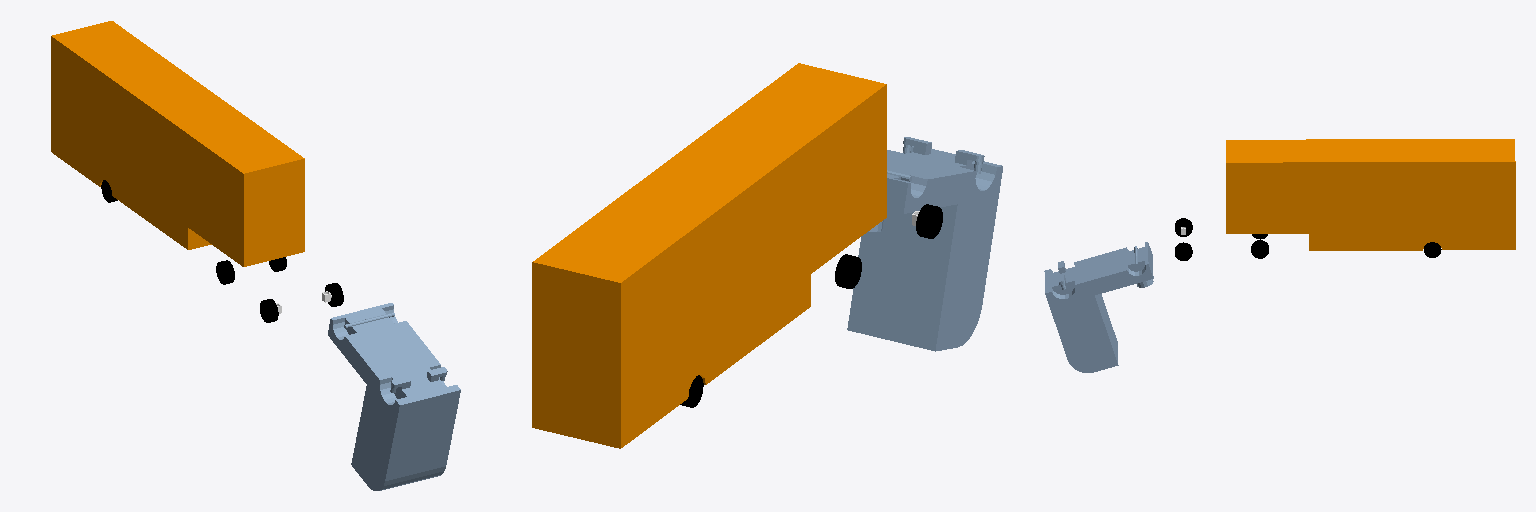
URDF robot description (TT):
<?xml version="1.0" encoding="utf-8"?>
<!-- This URDF was automatically created by SolidWorks to URDF Exporter! Originally created by [author] ([email redacted]) 
     Commit Version: 1.6.0-4-g7f85cfe  Build Version: 1.6.7995.38578
     For more information, please see http://wiki.ros.org/sw_urdf_exporter -->
<robot
  name="TT">
      <!-- Colors --> 
  <material name="black"> 
      <color rgba="0 0 0 1"/>
  </material>
  <material name="blue"> 
      <color rgba="0.6 0.7 0.8 0.9"/>
  </material>
  <material name="yellow"> 
      <color rgba="1 0.6 0 0.9"/>
  </material>
  <link
    name="base_link">
    <inertial>
      <origin
        xyz="0 0 -0.31232"
        rpy="0 0 0" />
      <mass
        value="6000" />
      <inertia
        ixx="103290"
        ixy="-5.3338E-12"
        ixz="1.5499E-13"
        iyy="74340"
        iyz="21268"
        izz="61126" />
    </inertial>
    <visual>
      <origin
        xyz="0 0 0"
        rpy="0 0 0" />
      <geometry>
        <mesh
          filename="package://TT/meshes/base_link.STL" />
      </geometry>
      <material
        name="blue">
        <!--color
          rgba=" 39 172 245 0.6" /-->
      </material>
    </visual>
    <collision>
      <origin
        xyz="0 0 0"
        rpy="0 0 0" />
      <geometry>
        <mesh
          filename="package://TT/meshes/base_link.STL" />
      </geometry>
    </collision>
  </link>
  <link
    name="Left_Hinge">
    <inertial>
      <origin
        xyz="0.044267 -0.15 0"
        rpy="0 0 0" />
      <mass
        value="11.976" />
      <inertia
        ixx="0.15149"
        ixy="4.7995E-18"
        ixz="-2.2287E-18"
        iyy="0.23945"
        iyz="-1.7421E-34"
        izz="0.23529" />
    </inertial>
    <visual>
      <origin
        xyz="0 0 0"
        rpy="0 0 0" />
      <geometry>
        <mesh
          filename="package://TT/meshes/Left_Hinge.STL" />
      </geometry>
      <material
        name="">
        <color
          rgba="1 1 1 1" />
      </material>
    </visual>
    <collision>
      <origin
        xyz="0 0 0"
        rpy="0 0 0" />
      <geometry>
        <mesh
          filename="package://TT/meshes/Left_Hinge.STL" />
      </geometry>
    </collision>
  </link>
  <joint
    name="base_to_left_hinge"
    type="revolute">
    <origin
      xyz="-1.4156 -5.504 -2.0935"
      rpy="1.5708 0 0" />
    <parent
      link="base_link" />
    <child
      link="Left_Hinge" />
    <axis
      xyz="0 1 0" />
    <limit
      lower="-0.55"
      upper="0.55"
      effort="0"
      velocity="0.713" />
  </joint>
  <link
    name="left_front_tire">
    <inertial>
      <origin
        xyz="0.15107 8.8818E-16 -1.7764E-15"
        rpy="0 0 0" />
      <mass
        value="16" />
      <inertia
        ixx="14.659"
        ixy="6.5806E-16"
        ixz="-9.8805E-16"
        iyy="8.5568"
        iyz="-4.4409E-16"
        izz="8.5568" />
    </inertial>
    <visual>
      <origin
        xyz="0 0 0"
        rpy="0 0 0" />
      <geometry>
        <mesh
          filename="package://TT/meshes/left_front_tire.STL" />
      </geometry>
      <material
        name="">
        <color
          rgba="0 0 0 1" />
      </material>
    </visual>
    <collision>
      <origin
        xyz="0 0 0"
        rpy="0 0 0" />
      <geometry>
        <mesh
          filename="package://TT/meshes/left_front_tire.STL" />
      </geometry>
    </collision>
  </link>
  <joint
    name="left_hinge_to_tire"
    type="continuous">
    <origin
      xyz="0.175 -0.15 0"
      rpy="1.1065 0 0" />
    <parent
      link="Left_Hinge" />
    <child
      link="left_front_tire" />
    <axis
      xyz="1 0 0" />
  </joint>
  <link
    name="Right_Hinge">
    <inertial>
      <origin
        xyz="0.044267 -0.15 8.8818E-16"
        rpy="0 0 0" />
      <mass
        value="11.976" />
      <inertia
        ixx="0.15149"
        ixy="-1.3253E-17"
        ixz="1.9137E-18"
        iyy="0.23945"
        iyz="-4.3647E-18"
        izz="0.23529" />
    </inertial>
    <visual>
      <origin
        xyz="0 0 0"
        rpy="0 0 0" />
      <geometry>
        <mesh
          filename="package://TT/meshes/Right_Hinge.STL" />
      </geometry>
      <material
        name="">
        <color
          rgba="1 1 1 1" />
      </material>
    </visual>
    <collision>
      <origin
        xyz="0 0 0"
        rpy="0 0 0" />
      <geometry>
        <mesh
          filename="package://TT/meshes/Right_Hinge.STL" />
      </geometry>
    </collision>
  </link>
  <joint
    name="base_to_right_hinge"
    type="revolute">
    <origin
      xyz="-3.4656 -5.504 -2.0935"
      rpy="1.5708 0 3.1416" />
    <parent
      link="base_link" />
    <child
      link="Right_Hinge" />
    <axis
      xyz="0 1 0" />
    <limit
      lower="-0.55"
      upper="0.55"
      effort="0"
      velocity="0.7103" />
  </joint>
  <link
    name="right_front_tire">
    <inertial>
      <origin
        xyz="0.15107 8.8818E-16 8.8818E-16"
        rpy="0 0 0" />
      <mass
        value="16" />
      <inertia
        ixx="14.659"
        ixy="4.2107E-16"
        ixz="-1.0042E-15"
        iyy="8.5568"
        iyz="-8.8818E-16"
        izz="8.5568" />
    </inertial>
    <visual>
      <origin
        xyz="0 0 0"
        rpy="0 0 0" />
      <geometry>
        <mesh
          filename="package://TT/meshes/right_front_tire.STL" />
      </geometry>
      <material
        name="">
        <color
          rgba="0 0 0 1" />
      </material>
    </visual>
    <collision>
      <origin
        xyz="0 0 0"
        rpy="0 0 0" />
      <geometry>
        <mesh
          filename="package://TT/meshes/right_front_tire.STL" />
      </geometry>
    </collision>
  </link>
  <joint
    name="right_hinge_to_tire"
    type="continuous">
    <origin
      xyz="0.175 -0.15 0"
      rpy="-2.107 0 0" />
    <parent
      link="Right_Hinge" />
    <child
      link="right_front_tire" />
    <axis
      xyz="-1 0 0" />
  </joint>
  <link
    name="Left_Rear_Tire">
    <inertial>
      <origin
        xyz="-0.14893 -1.1102E-16 0"
        rpy="0 0 0" />
      <mass
        value="16" />
      <inertia
        ixx="14.659"
        ixy="8.0908E-17"
        ixz="2.6649E-16"
        iyy="8.5568"
        iyz="8.8818E-16"
        izz="8.5568" />
    </inertial>
    <visual>
      <origin
        xyz="0 0 0"
        rpy="0 0 0" />
      <geometry>
        <mesh
          filename="package://TT/meshes/Left_Rear_Tire.STL" />
      </geometry>
      <material
        name="">
        <color
          rgba="0 0 0 1" />
      </material>
    </visual>
    <collision>
      <origin
        xyz="0 0 0"
        rpy="0 0 0" />
      <geometry>
        <mesh
          filename="package://TT/meshes/Left_Rear_Tire.STL" />
      </geometry>
    </collision>
  </link>
  <joint
    name="base_to_left_rear_tire"
    type="continuous">
    <origin
      xyz="-1.2156 -1.904 -2.2435"
      rpy="2.0942 0 0" />
    <parent
      link="base_link" />
    <child
      link="Left_Rear_Tire" />
    <axis
      xyz="1 0 0" />
  </joint>
  <link
    name="Right_Rear_Tire">
    <inertial>
      <origin
        xyz="0.15107 2.2204E-16 8.8818E-16"
        rpy="0 0 0" />
      <mass
        value="16" />
      <inertia
        ixx="14.659"
        ixy="-3.1348E-17"
        ixz="-4.5026E-17"
        iyy="8.5568"
        iyz="1.7764E-15"
        izz="8.5568" />
    </inertial>
    <visual>
      <origin
        xyz="0 0 0"
        rpy="0 0 0" />
      <geometry>
        <mesh
          filename="package://TT/meshes/Right_Rear_Tire.STL" />
      </geometry>
      <material
        name="">
        <color
          rgba="0 0 0 1" />
      </material>
    </visual>
    <collision>
      <origin
        xyz="0 0 0"
        rpy="0 0 0" />
      <geometry>
        <mesh
          filename="package://TT/meshes/Right_Rear_Tire.STL" />
      </geometry>
    </collision>
  </link>
  <joint
    name="base_to_right_rear_tire"
    type="continuous">
    <origin
      xyz="-3.3656 -1.904 -2.2435"
      rpy="1.3179 0 3.1416" />
    <parent
      link="base_link" />
    <child
      link="Right_Rear_Tire" />
    <axis
      xyz="1 0 0" />
  </joint>
  <link
    name="Trailer">
    <inertial>
      <origin
        xyz="5.9508E-14 0.17326 -5.4942"
        rpy="0 0 0" />
      <mass
        value="200" />
      <inertia
        ixx="2459700"
        ixy="9.4292E-10"
        ixz="2.3363E-08"
        iyy="2294600"
        iyz="-85390"
        izz="327600" />
    </inertial>
    <visual>
      <origin
        xyz="0 0 0"
        rpy="0 0 0" />
      <geometry>
        <mesh
          filename="package://TT/meshes/Trailer.STL" />
      </geometry>
      <material
        name="yellow">
        <!--color
          rgba="245 121 39 0.8" /-->
      </material>
    </visual>
    <collision>
      <origin
        xyz="0 0 0"
        rpy="0 0 0" />
      <geometry>
        <mesh
          filename="package://TT/meshes/Trailer.STL" />
      </geometry>
    </collision>
  </link>
  <joint
    name="Tractor_to_Trailer"
    type="revolute">
    <origin
      xyz="-2.4406 -1.904 0"
      rpy="1.5708 0 0.0093775" />
    <parent
      link="base_link" />
    <child
      link="Trailer" />
    <axis
      xyz="0 1 0" />
    <limit
      lower="-1.57"
      upper="1.57"
      effort="0"
      velocity="0.5" />
  </joint>
  <link
    name="Trailer_Left_Tire">
    <inertial>
      <origin
        xyz="0.15105 -5.1514E-14 -3.1974E-14"
        rpy="0 0 0" />
      <mass
        value="16" />
      <inertia
        ixx="14.659"
        ixy="4.8916E-18"
        ixz="6.5135E-14"
        iyy="8.5568"
        iyz="2.5319E-29"
        izz="8.5568" />
    </inertial>
    <visual>
      <origin
        xyz="0 0 0"
        rpy="0 0 0" />
      <geometry>
        <mesh
          filename="package://TT/meshes/Trailer_Left_Tire.STL" />
      </geometry>
      <material
        name="">
        <color
          rgba="0 0 0 1" />
      </material>
    </visual>
    <collision>
      <origin
        xyz="0 0 0"
        rpy="0 0 0" />
      <geometry>
        <mesh
          filename="package://TT/meshes/Trailer_Left_Tire.STL" />
      </geometry>
    </collision>
  </link>
  <joint
    name="trailer_to_left_tire"
    type="continuous">
    <origin
      xyz="0.92503 -2.2435 -8.1"
      rpy="0 0 0" />
    <parent
      link="Trailer" />
    <child
      link="Trailer_Left_Tire" />
    <axis
      xyz="1 0 0" />
  </joint>
  <link
    name="Trailer_Right_Tire">
    <inertial>
      <origin
        xyz="0.15105 2.0428E-14 5.7288E-14"
        rpy="0 0 0" />
      <mass
        value="16" />
      <inertia
        ixx="14.659"
        ixy="5.014E-14"
        ixz="1.9098E-14"
        iyy="8.5568"
        iyz="4.4409E-16"
        izz="8.5568" />
    </inertial>
    <visual>
      <origin
        xyz="0 0 0"
        rpy="0 0 0" />
      <geometry>
        <mesh
          filename="package://TT/meshes/Trailer_Right_Tire.STL" />
      </geometry>
      <material
        name="">
        <color
          rgba="0 0 0 1" />
      </material>
    </visual>
    <collision>
      <origin
        xyz="0 0 0"
        rpy="0 0 0" />
      <geometry>
        <mesh
          filename="package://TT/meshes/Trailer_Right_Tire.STL" />
      </geometry>
    </collision>
  </link>
  <joint
    name="trailer_to_right_tire"
    type="continuous">
    <origin
      xyz="-0.92503 -2.2435 -8.1"
      rpy="-1.8703 0 3.1416" />
    <parent
      link="Trailer" />
    <child
      link="Trailer_Right_Tire" />
    <axis
      xyz="1 0 0" />
  </joint>
</robot>

--- Facts derived from the render (not from the file) ---
The picture shows the robot from 3 angles, left to right: view 1: azimuth 30°, elevation 25°; view 2: azimuth 150°, elevation 25°; view 3: azimuth 270°, elevation 25°; orthographic projection.
Robot: TT — 10 links, 9 joints (3 revolute, 6 continuous); root link base_link; default pose: all joints at 0.
Links seen in each view (by area): view 1: Trailer, base_link; view 2: Trailer, base_link, Right_Rear_Tire, right_front_tire; view 3: Trailer, base_link.
Boxes of the visible links, left/top/right/bottom form: Trailer: left=51, top=21, right=304, bottom=266; base_link: left=328, top=303, right=460, bottom=490; Trailer: left=532, top=63, right=886, bottom=448; base_link: left=847, top=137, right=1002, bottom=351; Right_Rear_Tire: left=835, top=254, right=861, bottom=288; right_front_tire: left=916, top=204, right=942, bottom=238; Trailer: left=1226, top=139, right=1515, bottom=250; base_link: left=1044, top=242, right=1153, bottom=372.
Bounding box of the posed robot: 4.33 × 22.16 × 10.22 m (x, y, z).
10 mesh visuals loaded from 10 distinct referenced files (10 binary STL).